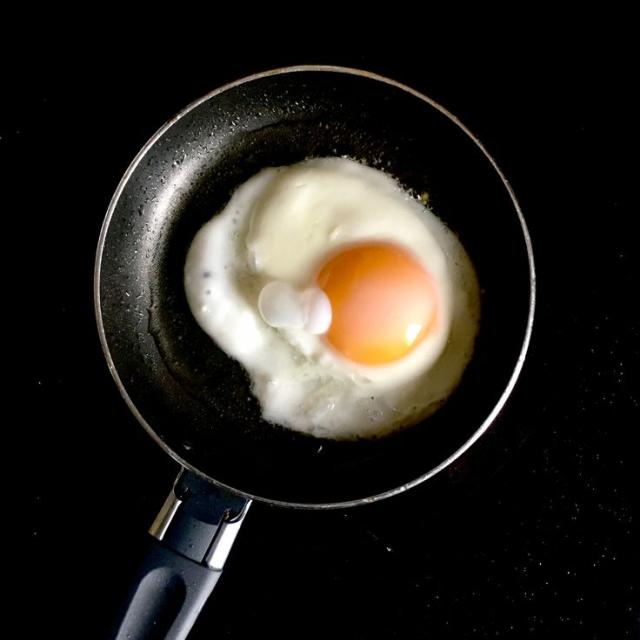fryed egg: (186, 158, 479, 438)
